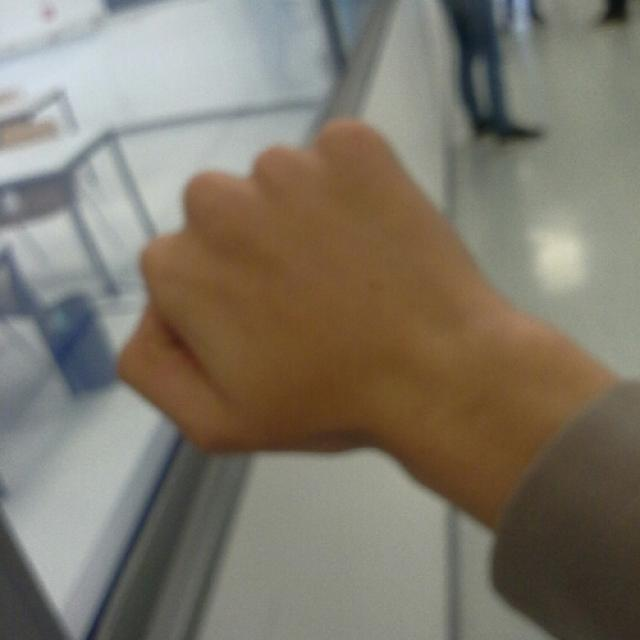rock: (119, 115, 442, 457)
